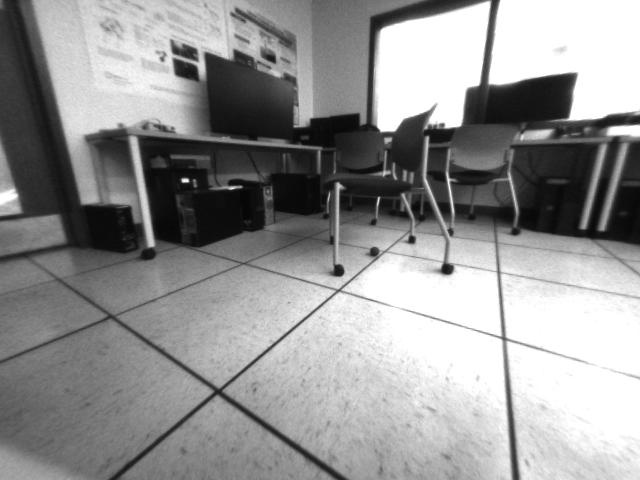dogtoy: (364, 241, 385, 260)
